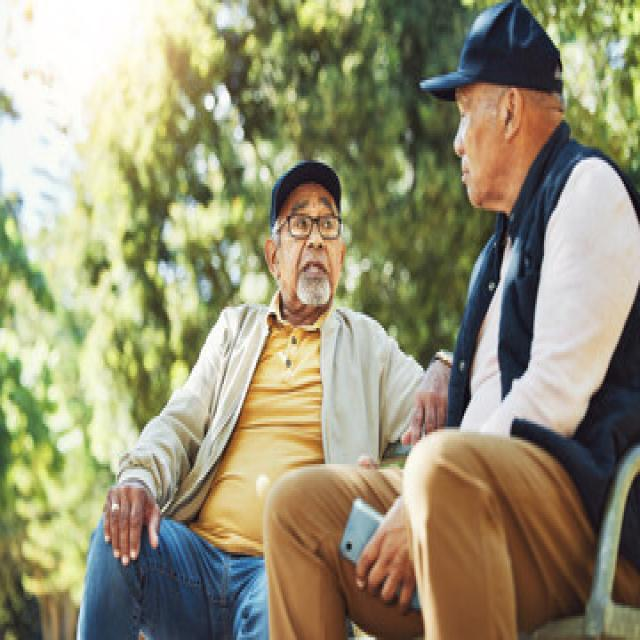person-without-mask: (391, 0, 640, 640), (79, 151, 403, 640)
